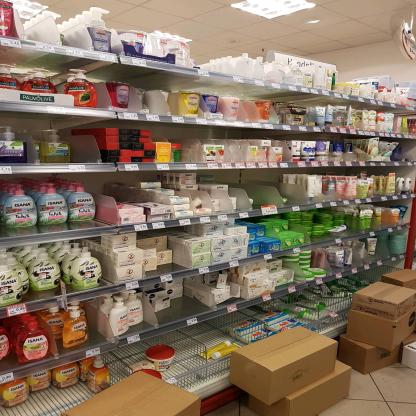Void: (235, 176, 299, 204), (69, 120, 100, 159), (30, 392, 81, 409), (178, 344, 199, 373), (225, 132, 245, 160), (14, 114, 43, 132), (194, 328, 226, 342), (186, 130, 198, 160), (160, 310, 204, 315)
